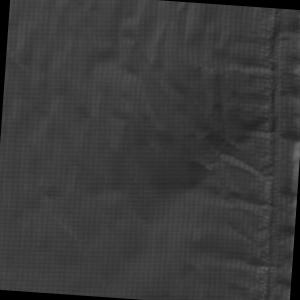Wrinkle: (179, 110, 300, 217), (178, 236, 294, 300), (213, 50, 300, 85)
